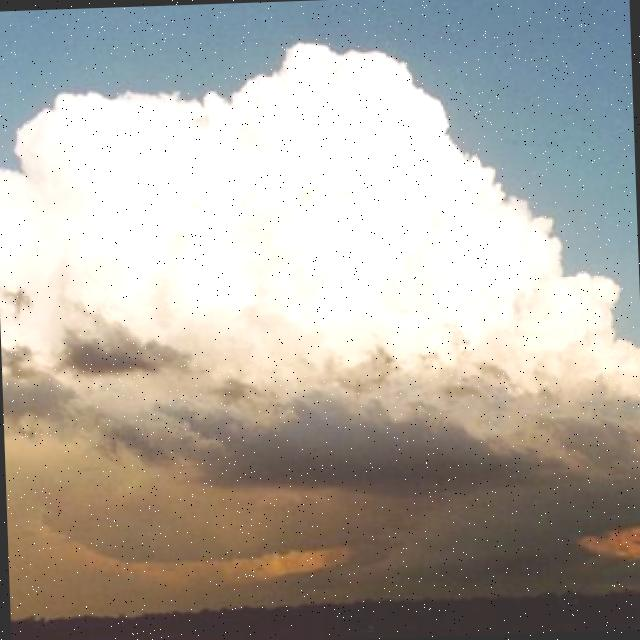Cb: (1, 21, 640, 428)
